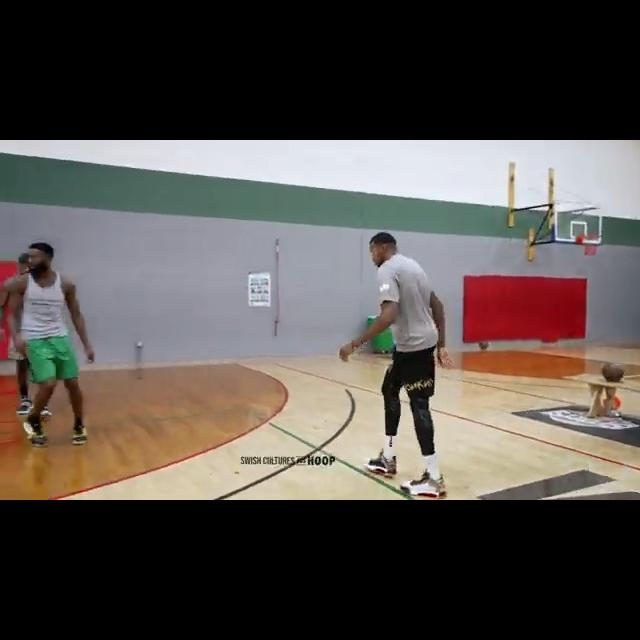basketball: (602, 358, 625, 384)
hoop: (582, 236, 601, 258)
person: (352, 233, 451, 500), (15, 239, 101, 446), (4, 248, 56, 419)
